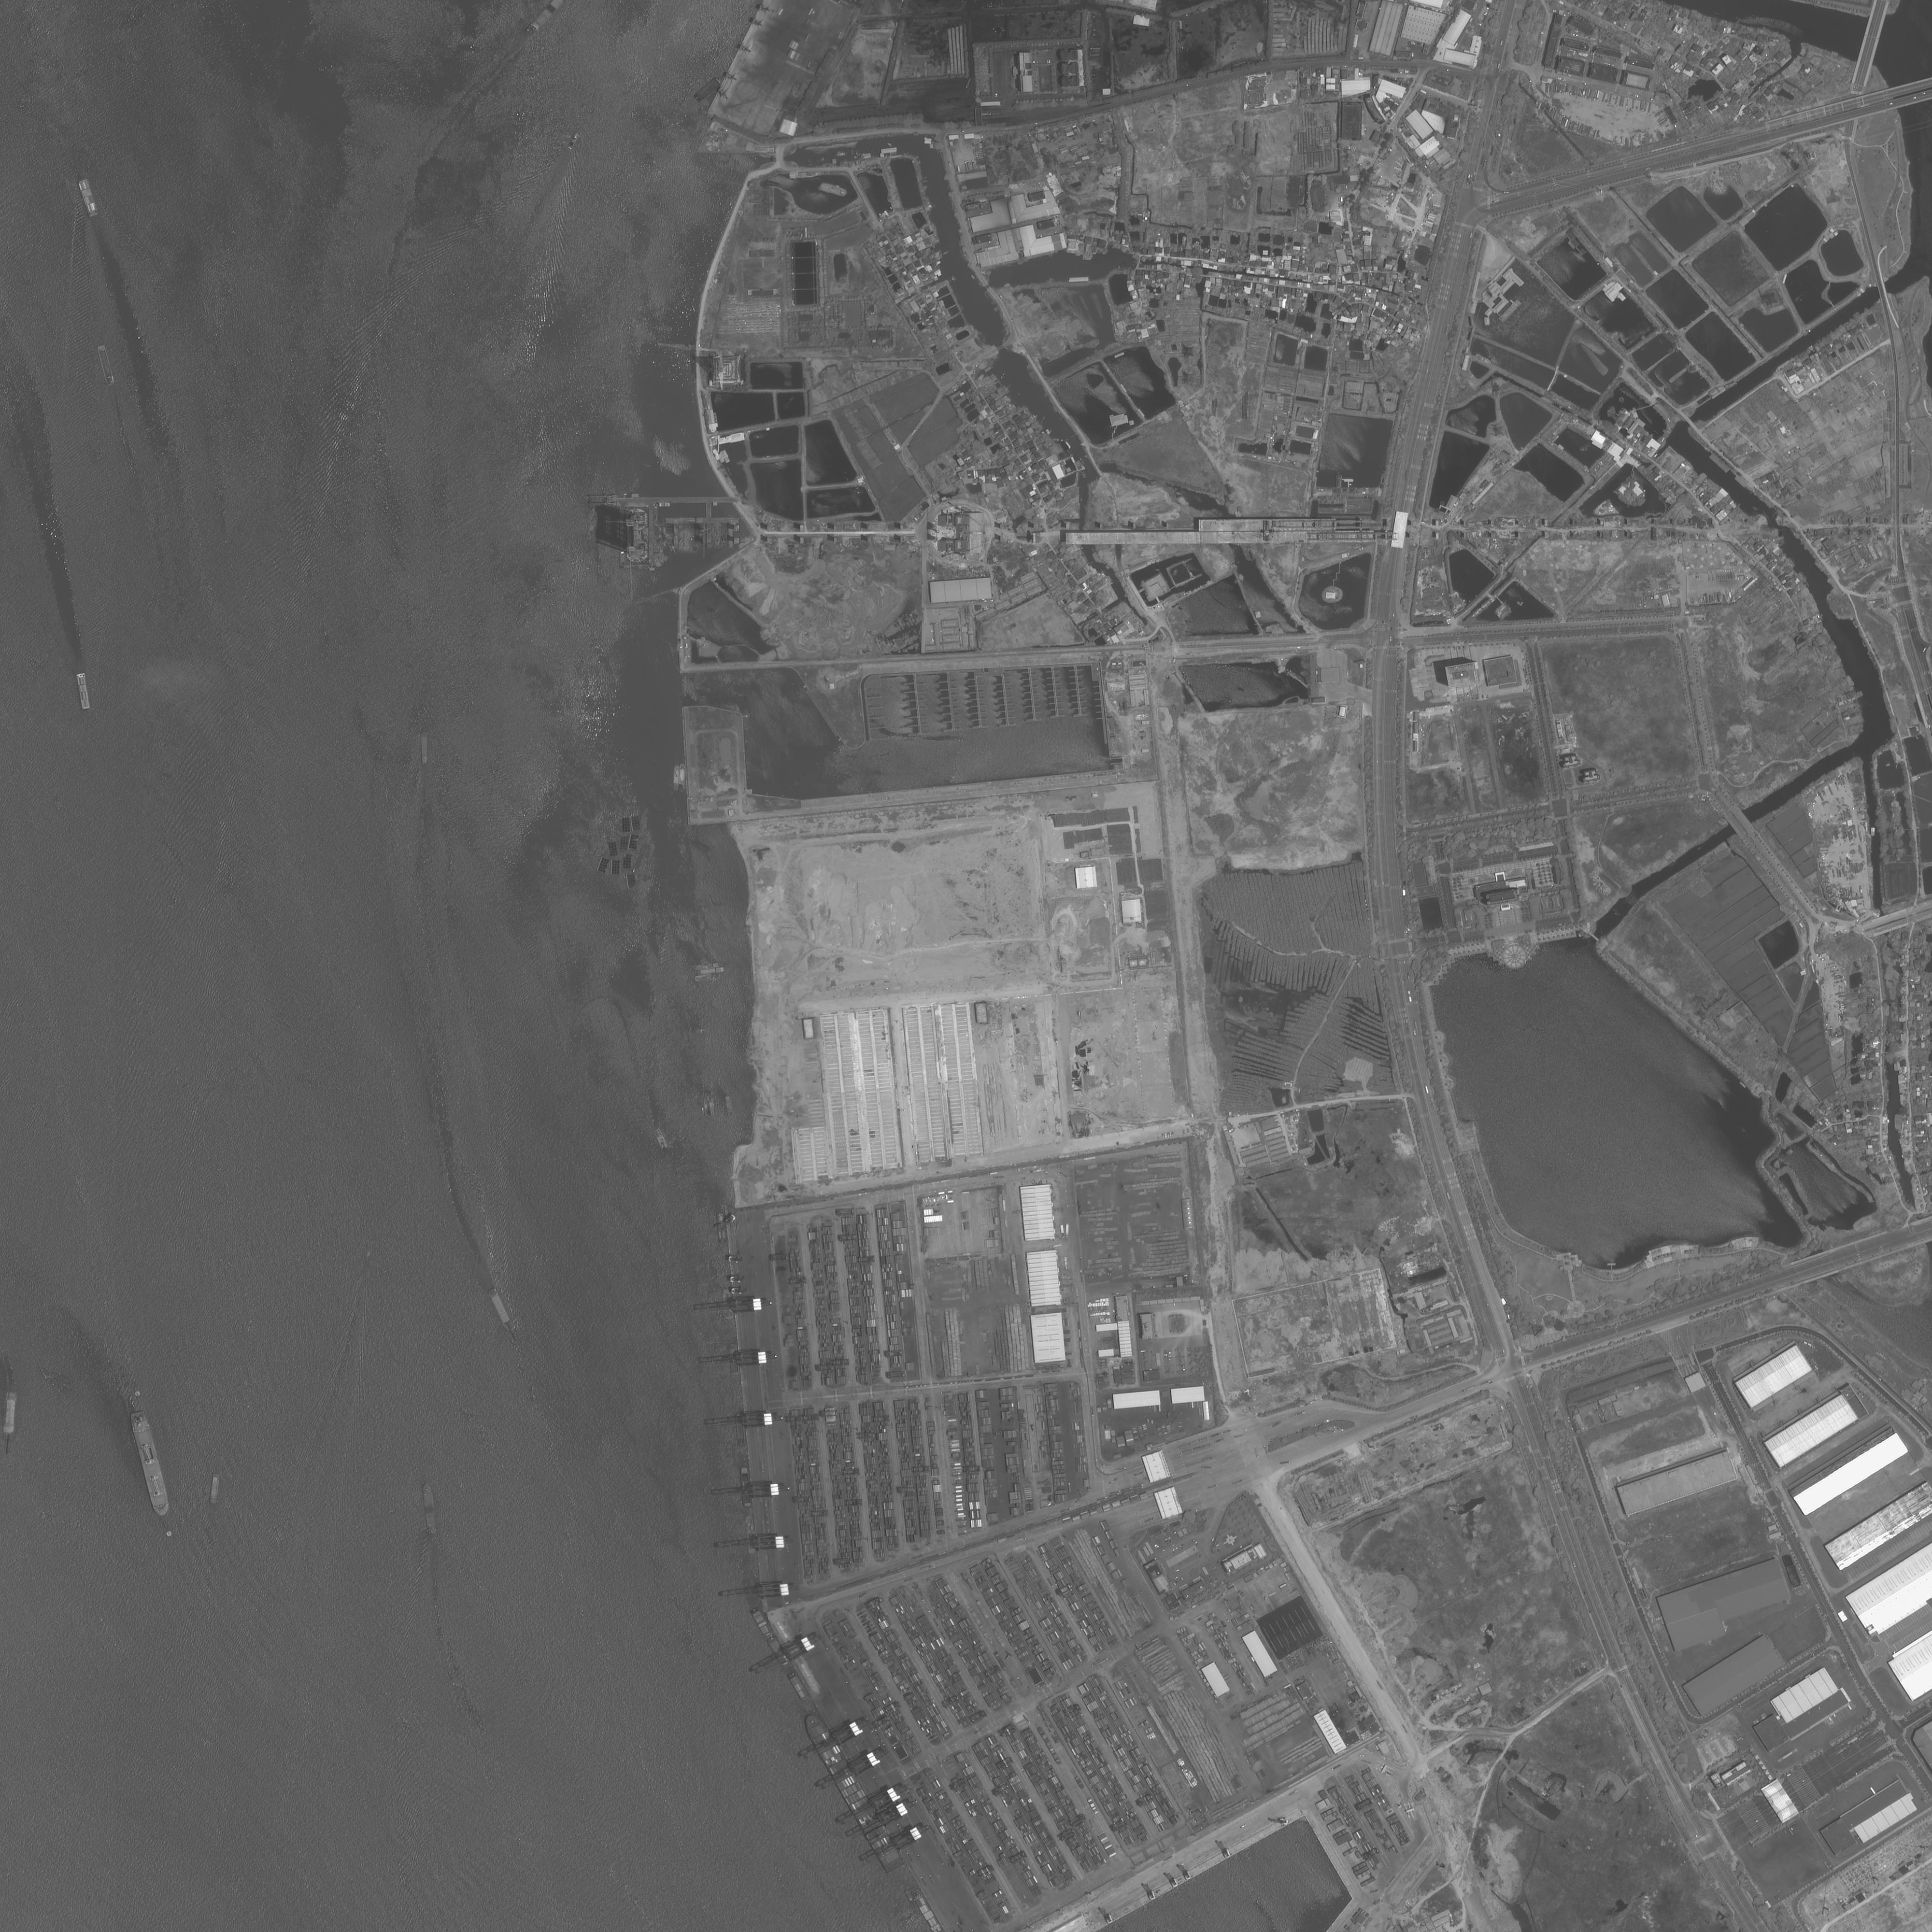ship: (800, 1709, 904, 1875), (129, 1410, 172, 1518), (522, 0, 568, 34), (909, 1888, 943, 1932), (421, 1483, 439, 1541), (78, 177, 101, 219), (690, 78, 725, 104), (96, 343, 117, 387), (488, 1288, 511, 1323), (748, 1606, 773, 1638), (766, 1635, 789, 1667), (787, 1672, 810, 1702), (4, 1391, 18, 1435), (76, 672, 90, 711), (741, 1468, 752, 1509), (722, 1290, 734, 1320), (653, 1127, 669, 1150), (734, 1414, 745, 1447), (729, 1343, 740, 1376), (209, 1472, 219, 1504), (702, 1090, 715, 1116), (717, 1214, 727, 1244), (566, 131, 582, 150), (419, 734, 428, 764), (725, 1095, 736, 1120), (672, 764, 681, 791), (695, 968, 725, 975), (679, 764, 686, 791), (695, 962, 720, 970), (694, 975, 718, 980), (1115, 352, 1125, 359)
